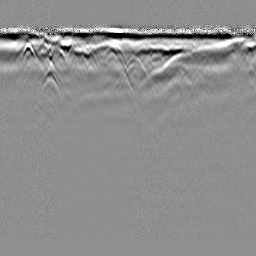cavity: (114, 54, 152, 88)
